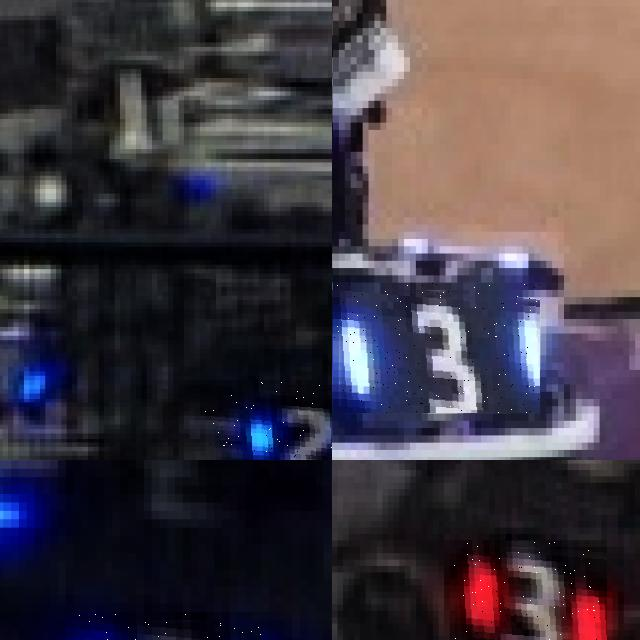B2: (205, 380, 332, 460)
B3: (333, 283, 540, 413)
R3: (450, 540, 607, 640)
